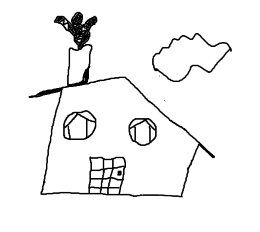clouds: (144, 27, 235, 87)
door: (85, 151, 132, 201)
open_window: (60, 109, 101, 145), (124, 113, 164, 149)
single_line_roof: (22, 72, 208, 121)
smoking_chimney: (48, 8, 114, 94)
wall: (37, 95, 199, 203)
